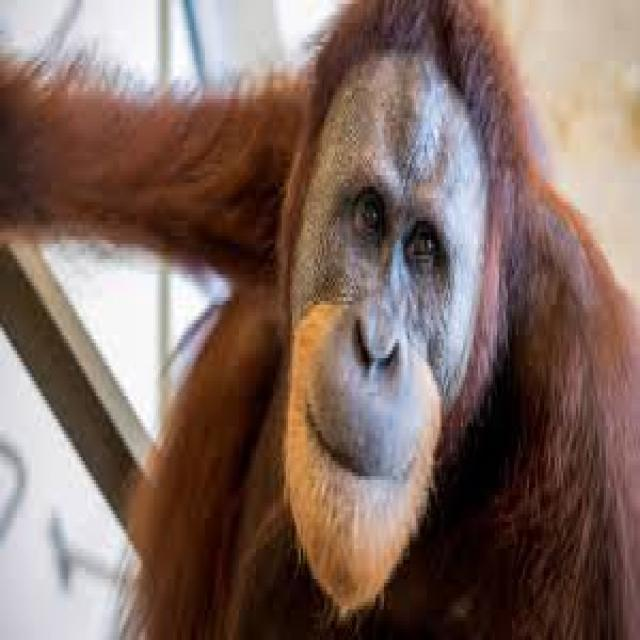Orangutan: (10, 3, 640, 640)
